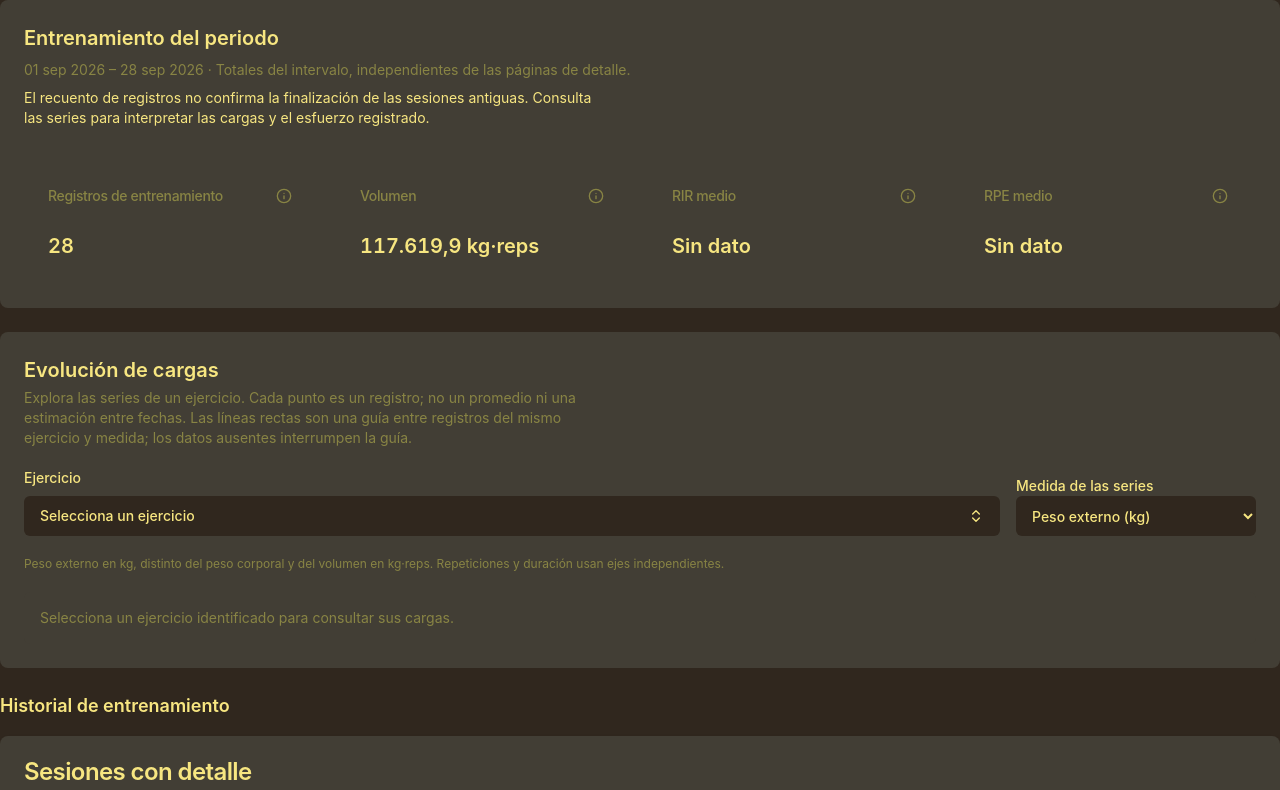
Test case: TrainingProgressPanel › explains ambiguous historical counts, session-only detail, volume and missing names without changing values
Click the button named "Información sobre Registros de entrenamiento": (284, 196) [264,176,304,216]
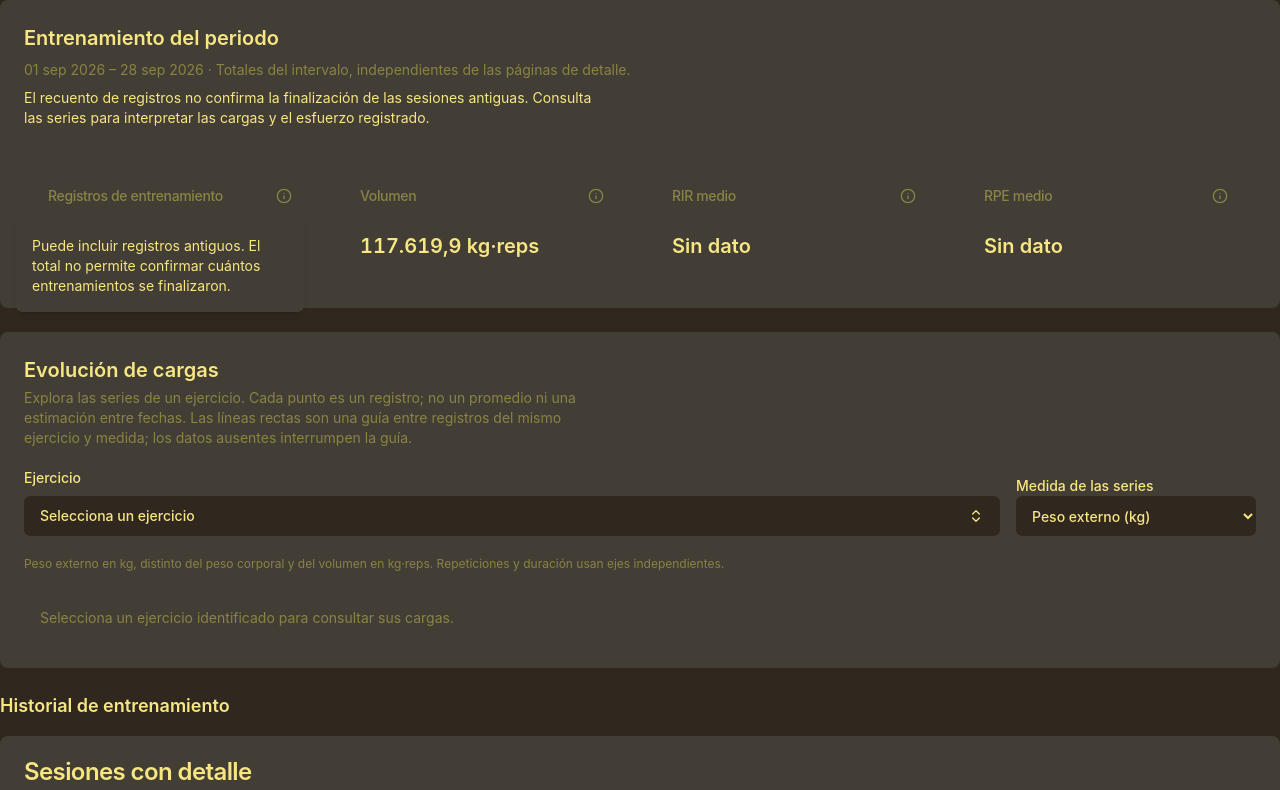
Result: the text "Información sobre Registros de entrenamiento" is shown at [32,237,260,294]
Press Escape
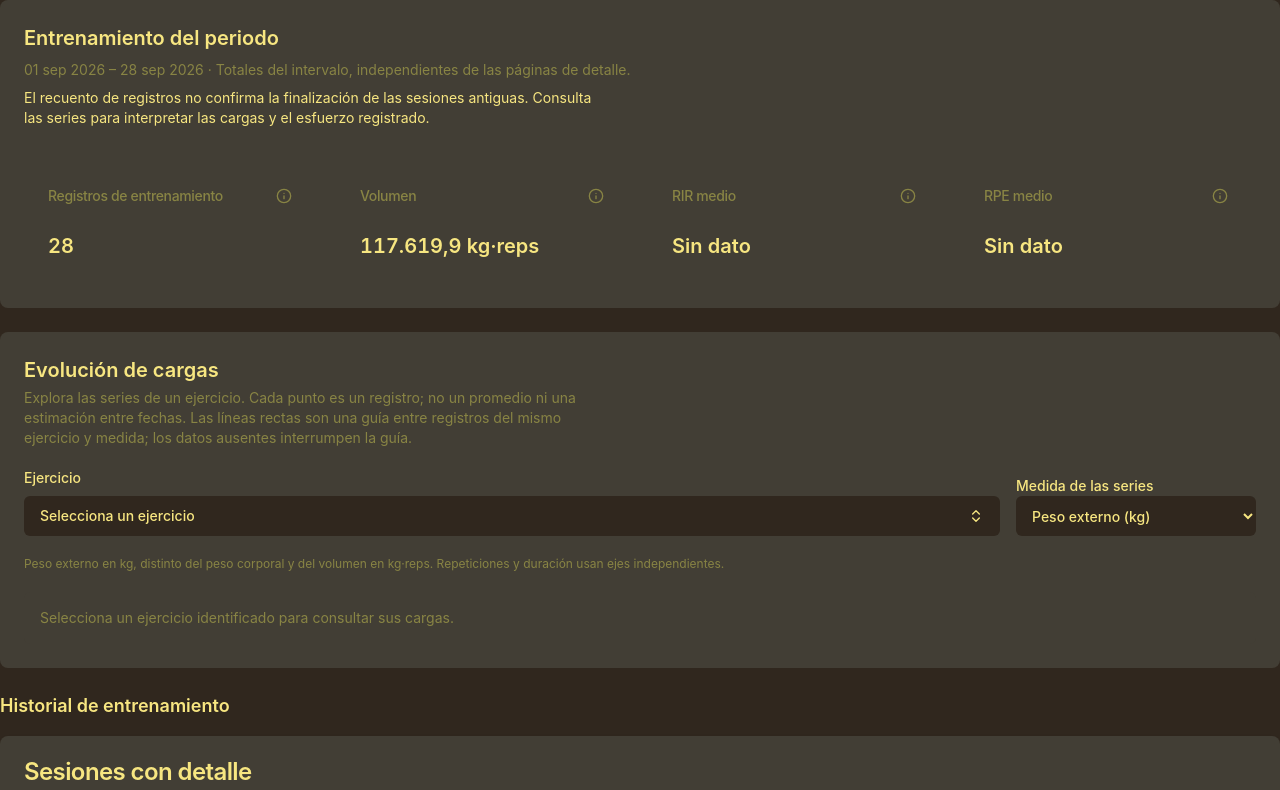
Click the button named "Información sobre Volumen": (596, 196) [576,176,616,216]
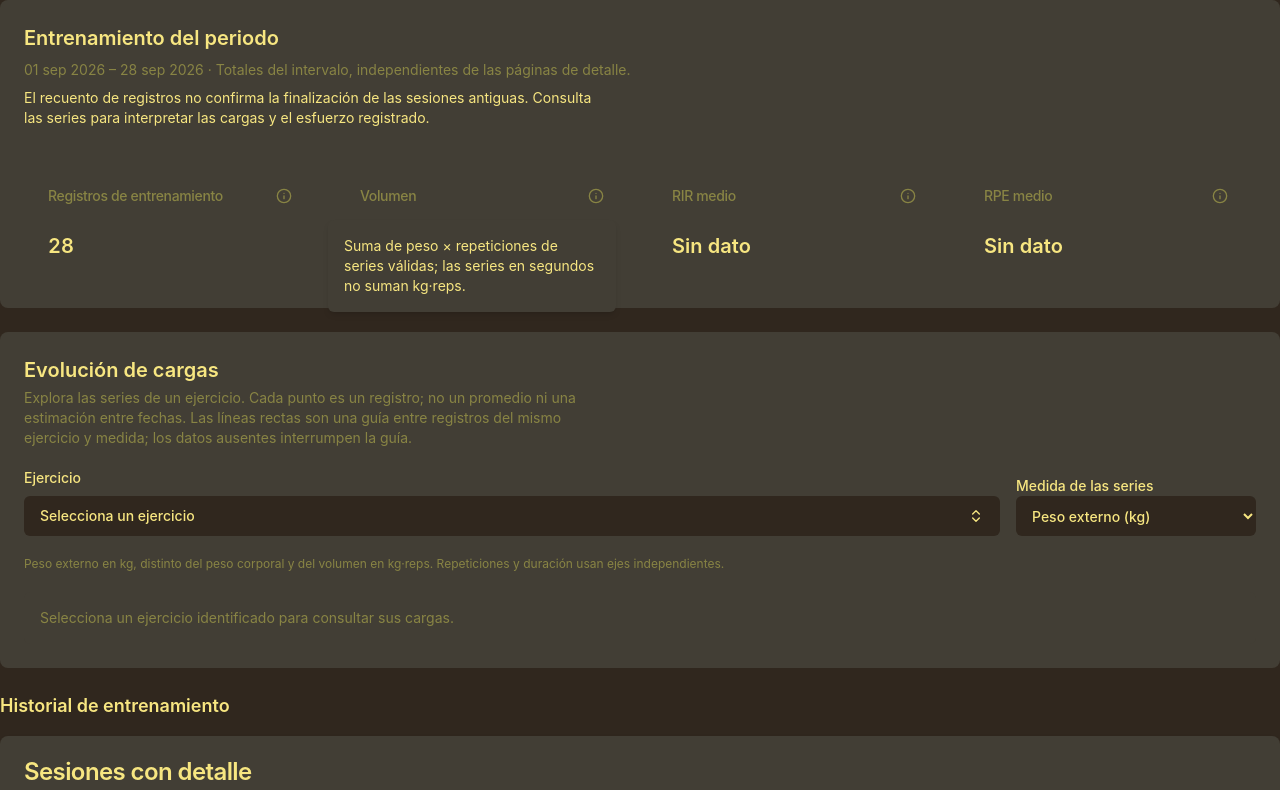
Result: the text "Información sobre Volumen" is shown at [344,237,594,294]
Press Escape
(page scrolled)
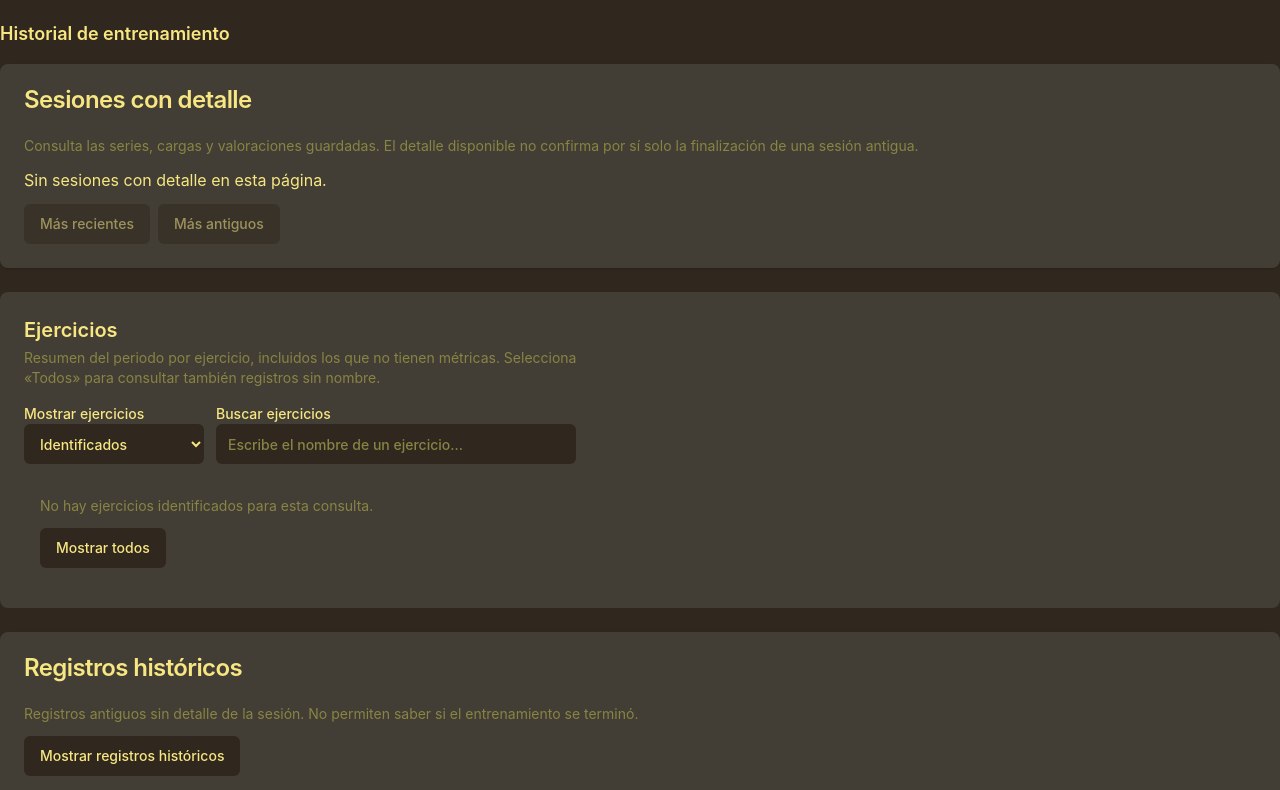
Select "Todos" in the dropdown labelled "Mostrar ejercicios": (114, 444) [24,424,204,464]
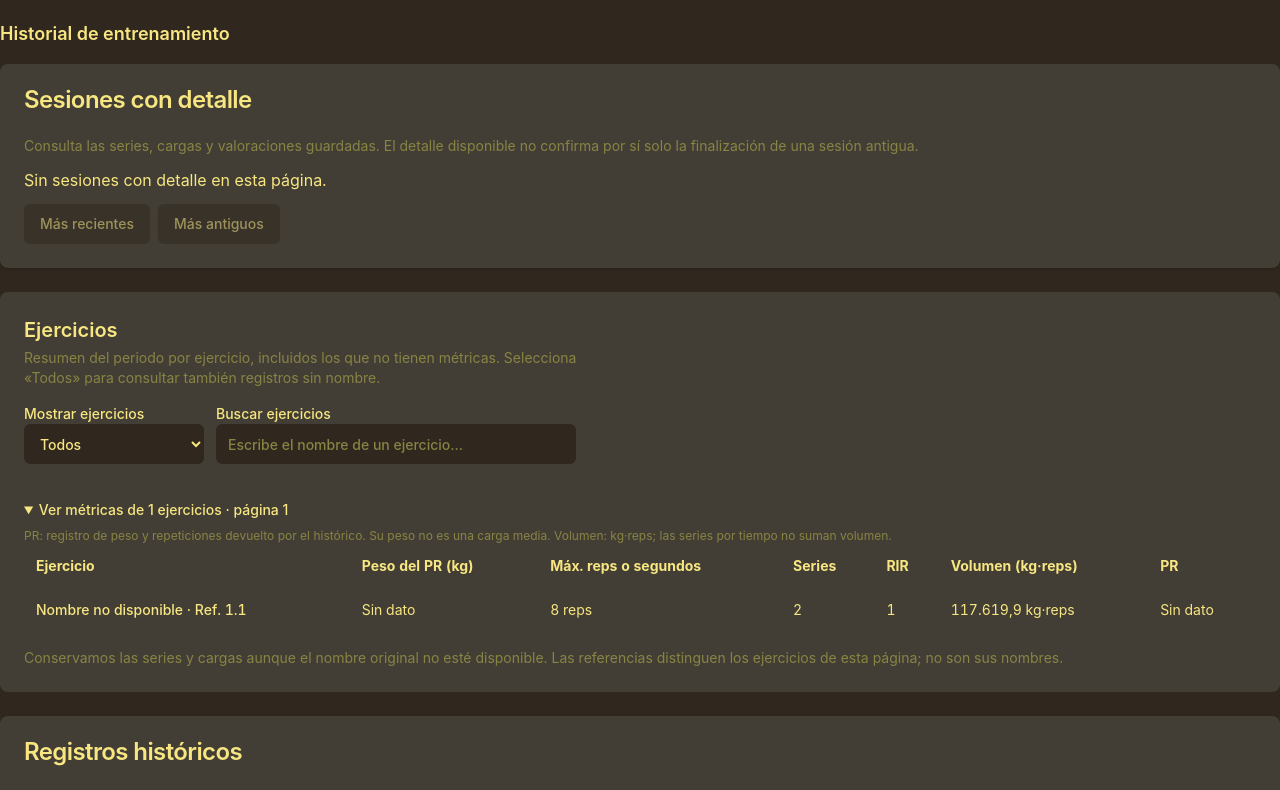
Result: the text "117.619,9 kg·reps" is shown at [939,588,1148,632]
